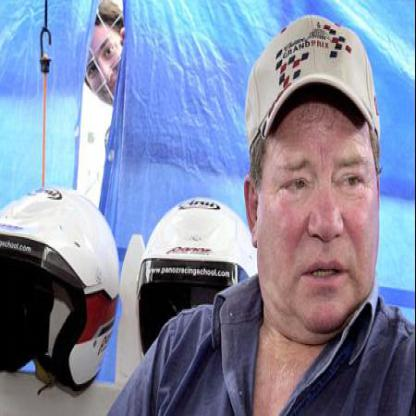face: (253, 44, 385, 335), (84, 14, 134, 115)
